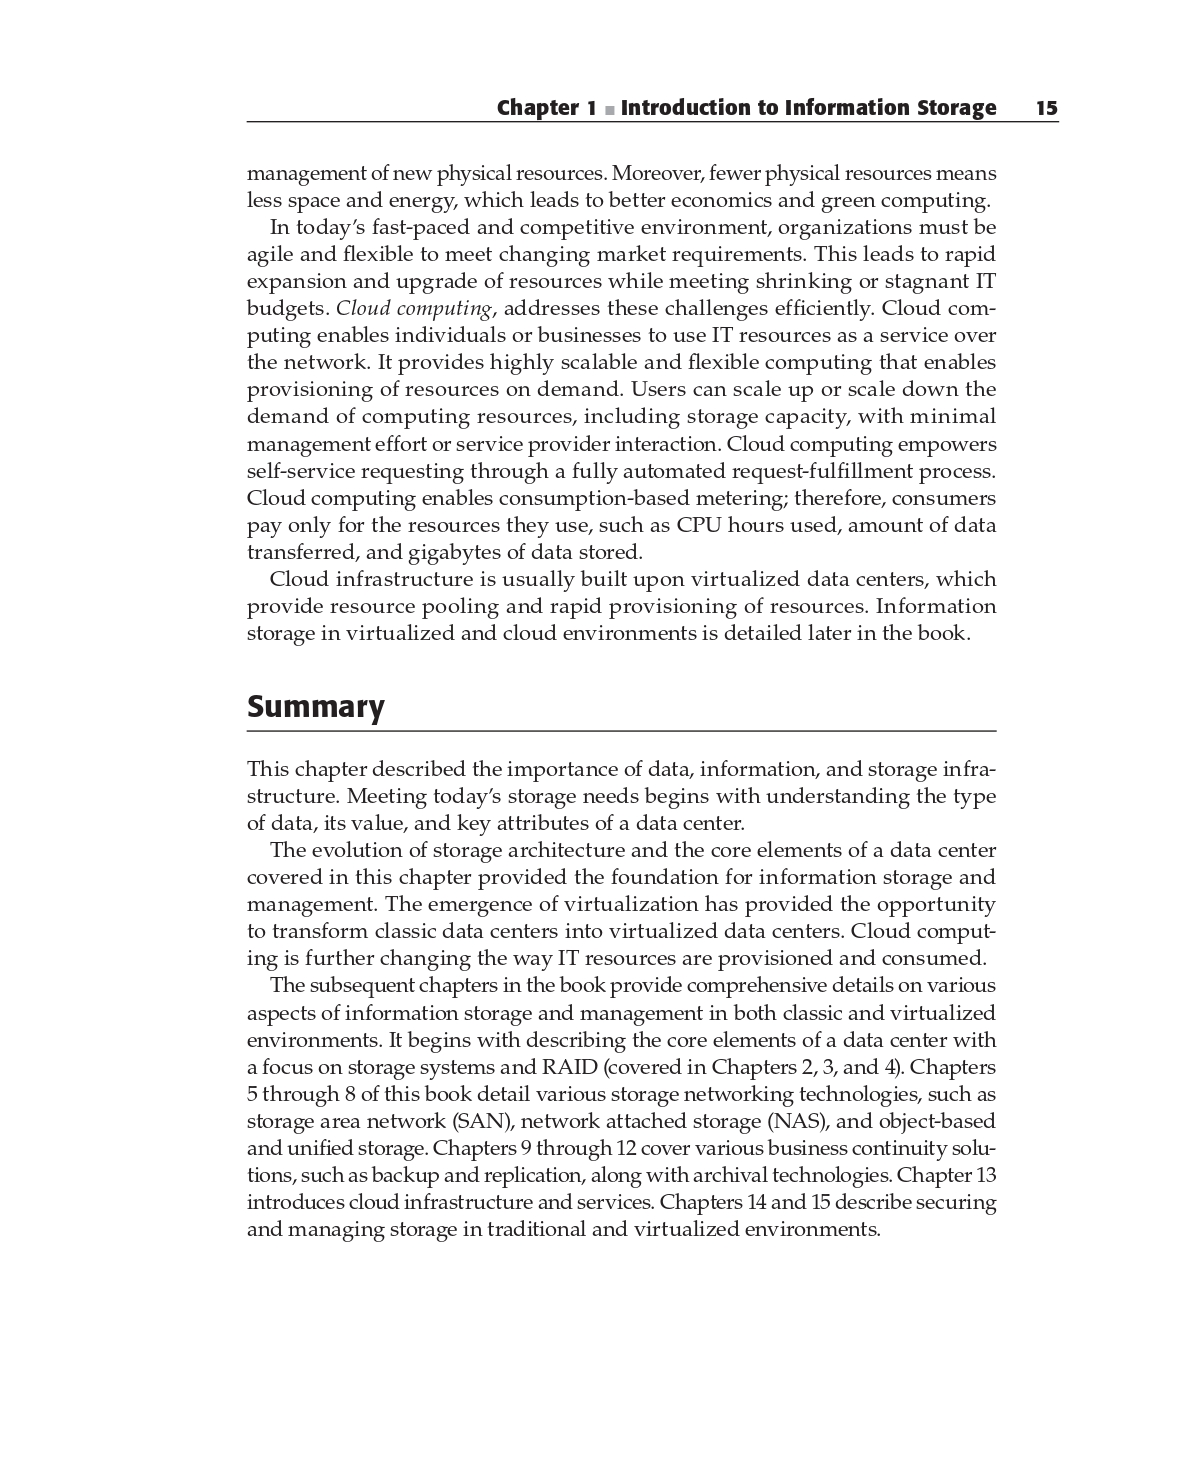Paragraph: (242, 219, 999, 570), (242, 976, 1001, 1244), (242, 839, 1001, 970), (236, 748, 999, 835), (236, 141, 999, 216), (240, 566, 999, 640), (491, 91, 1069, 128), (230, 692, 412, 730)
